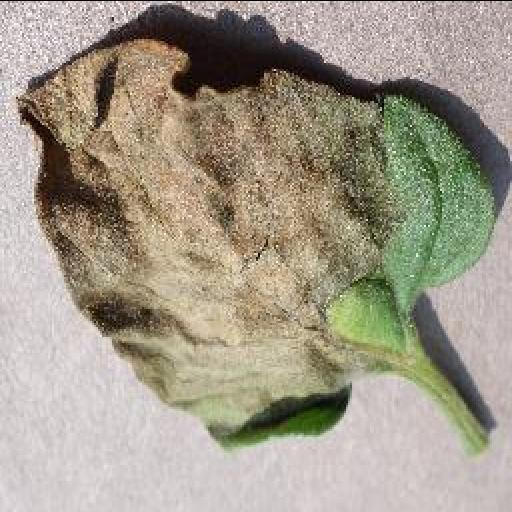disease_tomato: (14, 38, 490, 454)
